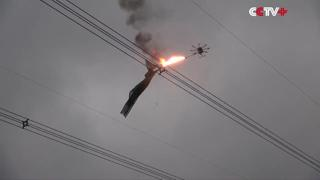UAV: (185, 44, 210, 59)
